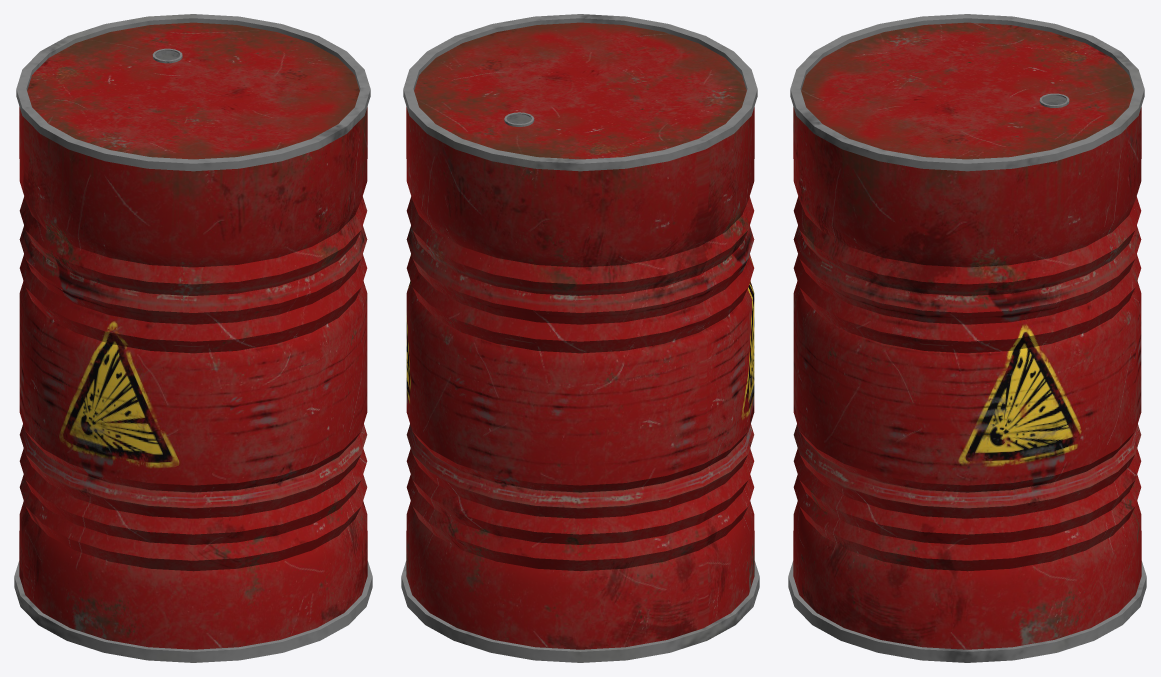
File: Barel2.fbx
3 views of the same model, side by side, from view 1: azimuth 30°, elevation 25°; view 2: azimuth 150°, elevation 25°; view 3: azimuth 270°, elevation 25° (orthographic).
Visible parts, largest first — view 1: Circle.001; view 2: Circle.001; view 3: Circle.001.
Boxes of the visible parts, box(x1,y1,x2,y2) form: Circle.001: box(14, 14, 372, 662); Circle.001: box(401, 14, 759, 662); Circle.001: box(788, 14, 1146, 662).
Bounding box in the file's own units: 57.99 × 89 × 57.99.
Materials: 1 (1 with a texture image).
